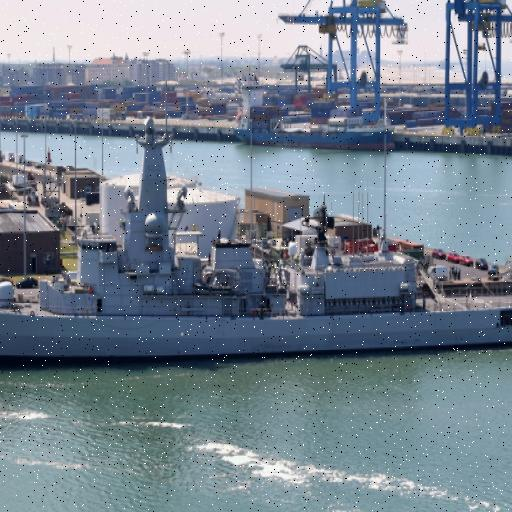Fragata: (1, 99, 512, 375)
